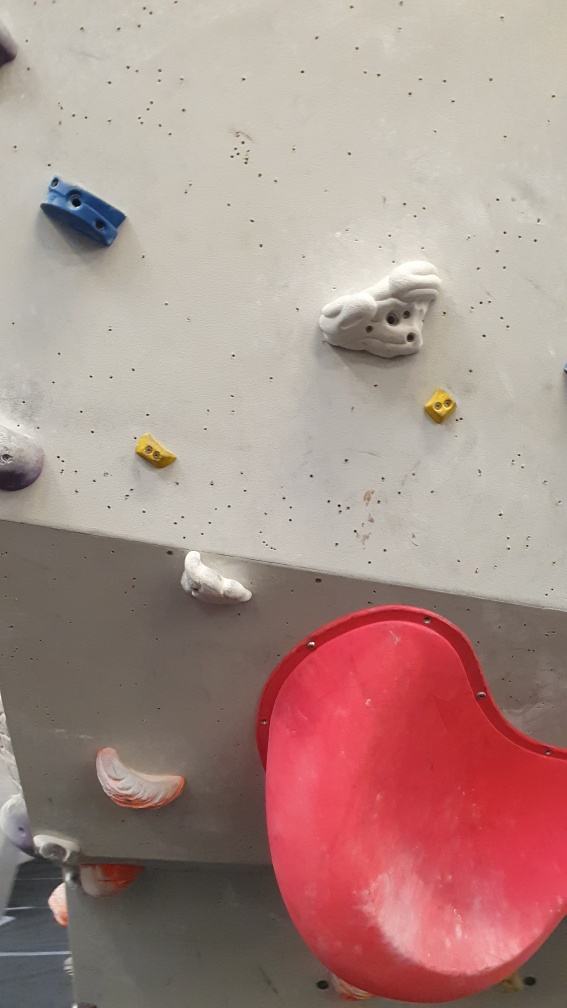Crimp: (133, 426, 181, 477)
Jug: (316, 259, 447, 367), (90, 743, 191, 812), (175, 544, 262, 612)
Pinch: (38, 166, 134, 251), (417, 385, 465, 432)
